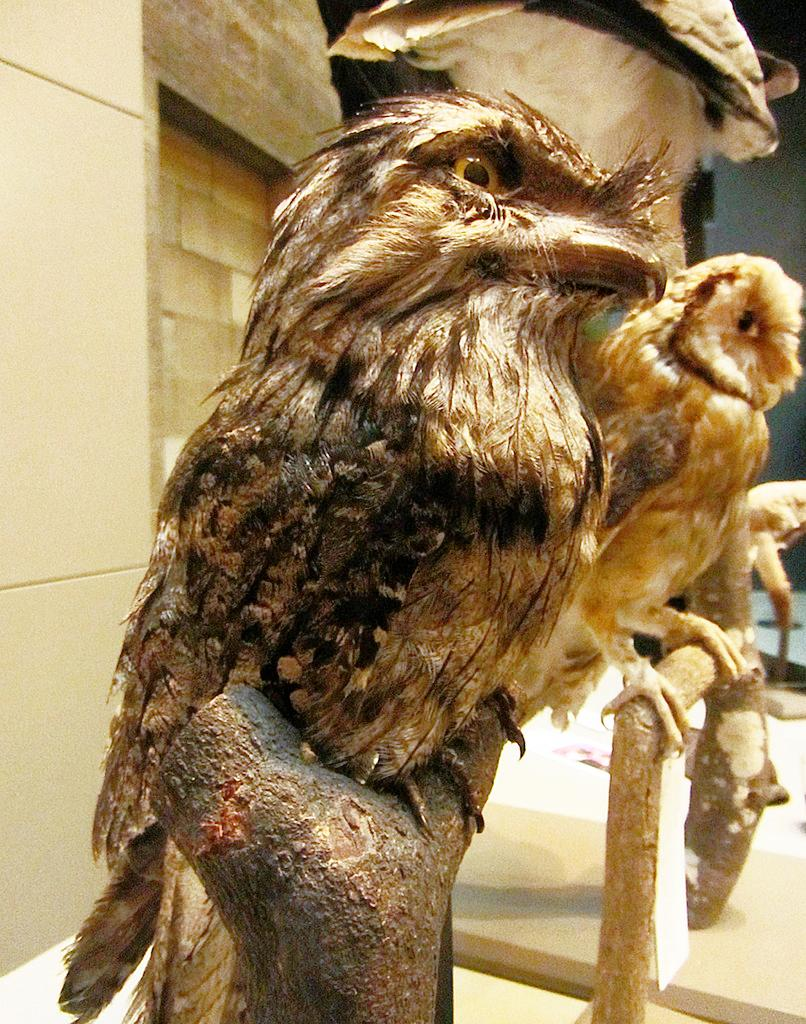Owl: (63, 89, 671, 1023), (550, 238, 798, 782)
